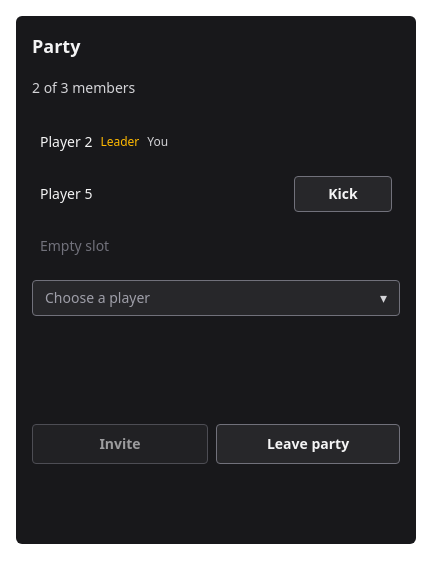
Test: PartyPanel › Party full disables the picker options
Expected: the button "Invite" is disabled, [32, 424, 208, 464]
Step 1. Click the button named "Invite player" → point(98, 298), box [32, 280, 400, 316]
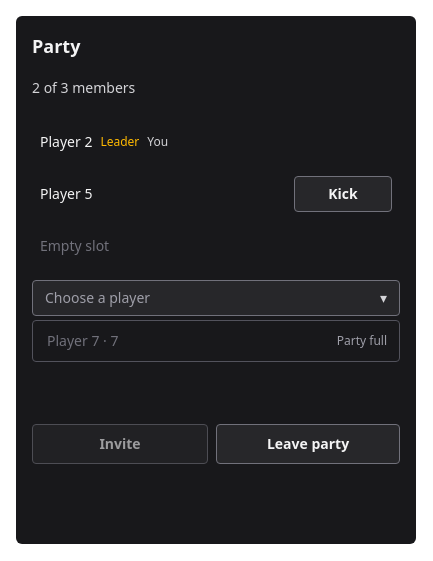
Expected: the text "Party full" is shown, [337, 333, 387, 349]
